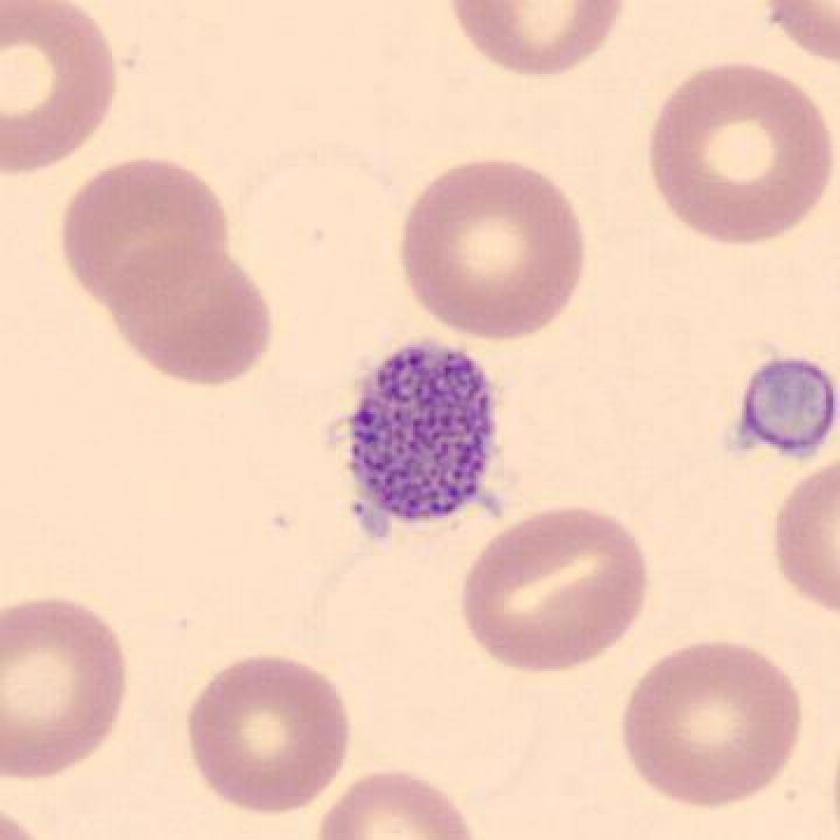platelets: (340, 327, 508, 547), (736, 344, 839, 469)
